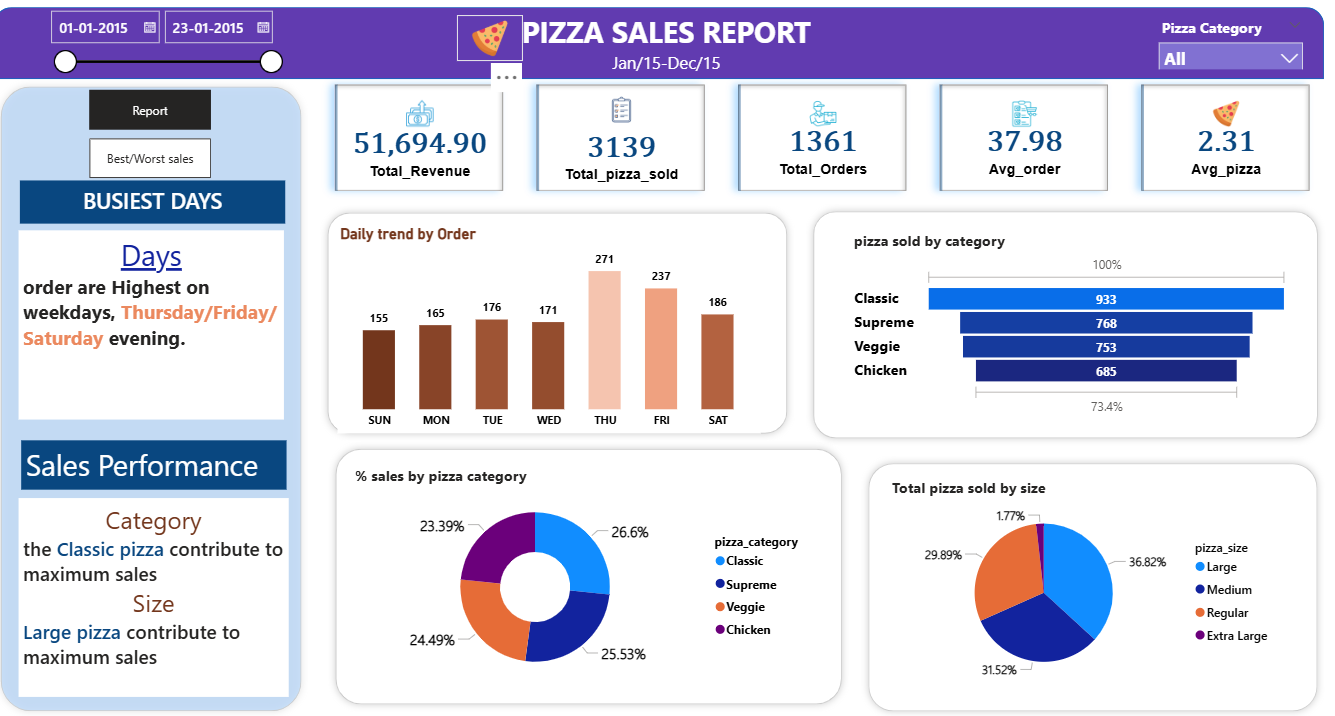

The page's visual inventory and layout, read from the dashboard file:
{"tool":"powerbi","page":{"name":"Report","canvas":[1500,800],"ordinal":0},"visuals":[{"type":"cardVisual","title":"PIZZA SHOP ANALYSIS","fields":{"Data":["project sales.Total_Revenue","project sales.Total_pizza_sold","project sales.Total_Orders","project sales.Avg_order","project sales.Avg_pizza"]},"box":[366.7,80,1115,150],"z":0},{"type":"shape","box":[3.3,10,1478.3,80],"z":1000},{"type":"textbox","box":[580,10,340,70],"z":2000},{"type":"image","box":[518.3,18.3,73.3,51.7],"z":3000},{"type":"textbox","box":[668.3,53.3,165,36.7],"z":4000},{"type":"shape","box":[366.7,230,526.7,261.7],"z":5000},{"type":"columnChart","title":"Daily trend by Order","fields":{"Y":["project sales.Total_Orders"],"Category":["project sales.order_day"]},"box":[385,251.7,470,231.7],"z":6000},{"type":"shape","box":[905,228.3,576.7,268.3],"z":7000},{"type":"shape","box":[374.3,492.9,578.6,300],"z":8000},{"type":"donutChart","title":"% sales by pizza category","fields":{"Category":["project sales.pizza_category"],"Y":["project sales.Total_Revenue"]},"box":[400,518.6,524.3,248.6],"z":9000},{"type":"shape","box":[966.7,508.3,515,291.7],"z":10000},{"type":"funnel","title":"pizza sold by category","fields":{"Category":["project sales.pizza_category"],"Y":["project sales.Total_pizza_sold"]},"box":[953.8,258.8,492.5,210],"z":11000},{"type":"pieChart","title":"Total pizza sold by size","fields":{"Category":["project sales.pizza_size"],"Y":["project sales.Total_Orders"]},"box":[996.7,531.7,436.7,235],"z":12000},{"type":"shape","box":[3.3,90,350,710],"z":13000},{"type":"textbox","box":[31.7,203.3,295,48.3],"z":14000},{"type":"textbox","box":[31.2,258.8,295,210],"z":15000},{"type":"textbox","box":[33.8,491.2,295,55],"z":16000},{"type":"textbox","box":[31.2,555,300,221.2],"z":17000},{"type":"slicer","fields":{"Values":["project sales.pizza_category"]},"box":[1288.3,16.7,180,63.3],"z":18000},{"type":"slicer","fields":{"Values":["project sales.order_date"]},"box":[53.3,5,278.3,105],"z":19000},{"type":"pageNavigator","box":[110,101.4,135.7,44.3],"z":20000},{"type":"pageNavigator","box":[110,155.7,135.7,44.3],"z":21000}]}

Visuals, with their boxes in screenshot pixels (x1, y1, x2, y2), scaled from the page's 1500x800 canvas onto the 1335x716 screenshot:
"PIZZA SHOP ANALYSIS" cardVisual: <box>326,72,1319,206</box>
shape: <box>3,9,1319,81</box>
textbox: <box>516,9,819,72</box>
image: <box>461,16,527,63</box>
textbox: <box>595,48,742,81</box>
shape: <box>326,206,795,440</box>
"Daily trend by Order" columnChart: <box>343,225,761,433</box>
shape: <box>805,204,1319,444</box>
shape: <box>333,441,848,710</box>
"% sales by pizza category" donutChart: <box>356,464,823,687</box>
shape: <box>860,455,1319,715</box>
"pizza sold by category" funnel: <box>849,232,1287,420</box>
"Total pizza sold by size" pieChart: <box>887,476,1276,686</box>
shape: <box>3,81,314,715</box>
textbox: <box>28,182,291,225</box>
textbox: <box>28,232,290,420</box>
textbox: <box>30,440,293,489</box>
textbox: <box>28,497,295,695</box>
slicer - project sales.pizza_category: <box>1147,15,1307,72</box>
slicer - project sales.order_date: <box>47,4,295,98</box>
pageNavigator: <box>98,91,219,130</box>
pageNavigator: <box>98,139,219,179</box>
